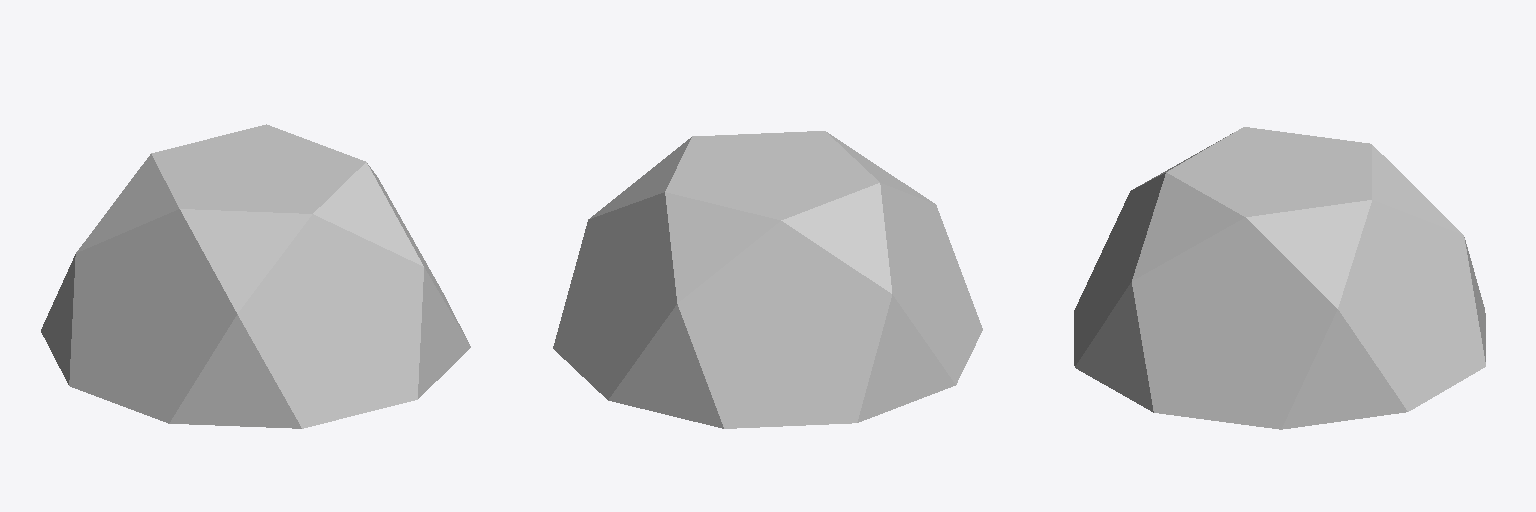
Rendered from PentagonalRotunda.obj.
3 renders of one model, left to right at view 1: azimuth 30°, elevation 25°; view 2: azimuth 150°, elevation 25°; view 3: azimuth 270°, elevation 25°, orthographic.
Parts seen in each view (by area): view 1: PentagonalRotunda; view 2: PentagonalRotunda; view 3: PentagonalRotunda.
Part boxes in pixels (bbox=[...]): PentagonalRotunda: bbox=[41, 124, 470, 428]; PentagonalRotunda: bbox=[553, 131, 982, 428]; PentagonalRotunda: bbox=[1074, 127, 1485, 429].
Bounding box in the file's own units: 2.43 × 1.04 × 2.31.